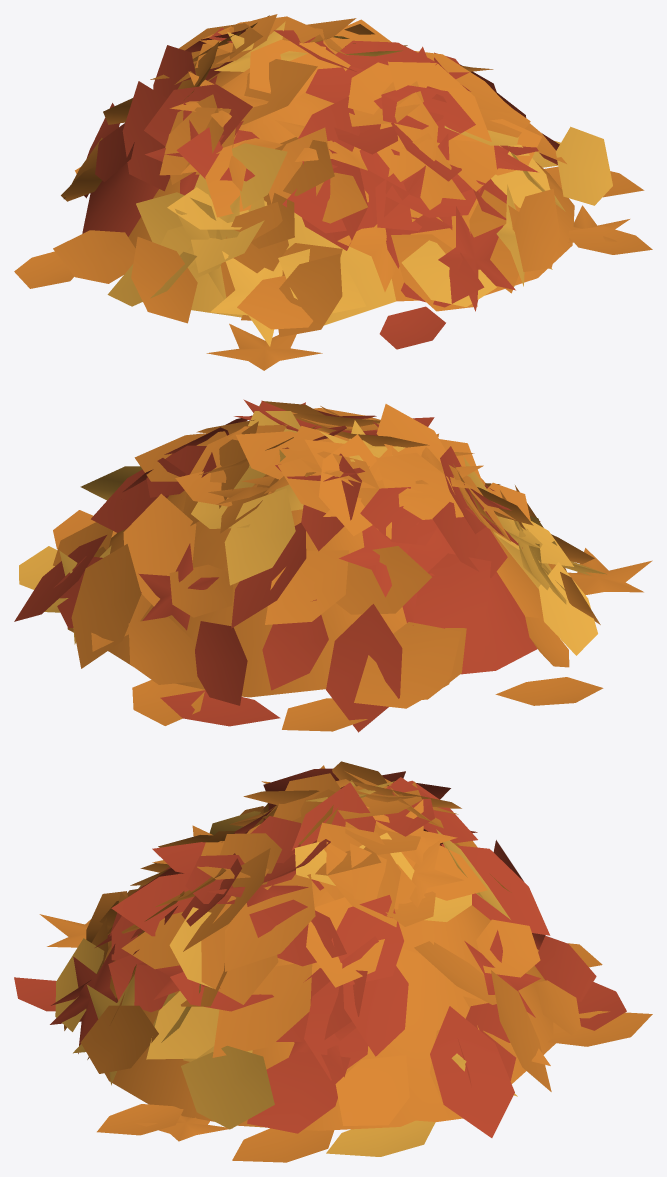
File: leaf_pile.glb
3 views of the same model, one above another, from view 1: azimuth 30°, elevation 25°; view 2: azimuth 150°, elevation 25°; view 3: azimuth 270°, elevation 25° (orthographic). The views are drawn at different scales.
Parts seen in each view (by area): view 1: leaf_pieces, leaf_mound; view 2: leaf_pieces, leaf_mound; view 3: leaf_pieces, leaf_mound.
Boxes of the visible parts, x1,y1,x2,y2 form: leaf_pieces: (14,14,652,370); leaf_mound: (82,71,574,325); leaf_pieces: (14,399,652,732); leaf_mound: (67,484,543,697); leaf_pieces: (14,761,652,1162); leaf_mound: (104,874,555,1130).
Size of the model in its own units: 0.9222 by 0.3272 by 0.8407.
